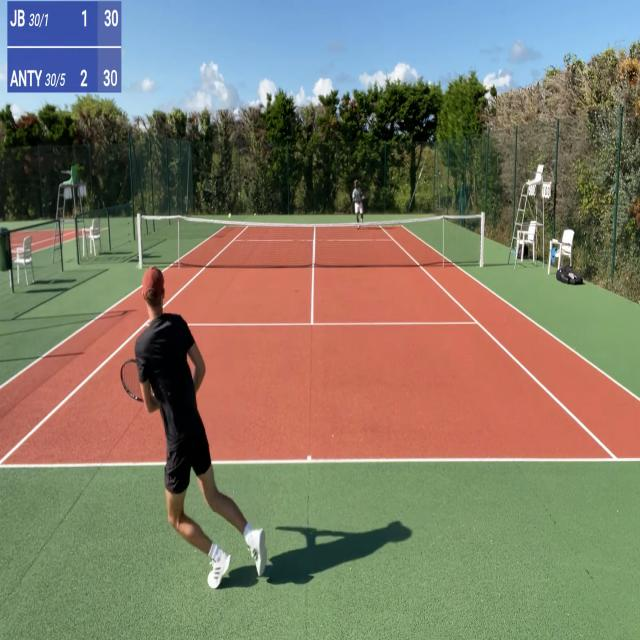ball: (228, 213, 231, 219), (254, 212, 256, 216)
